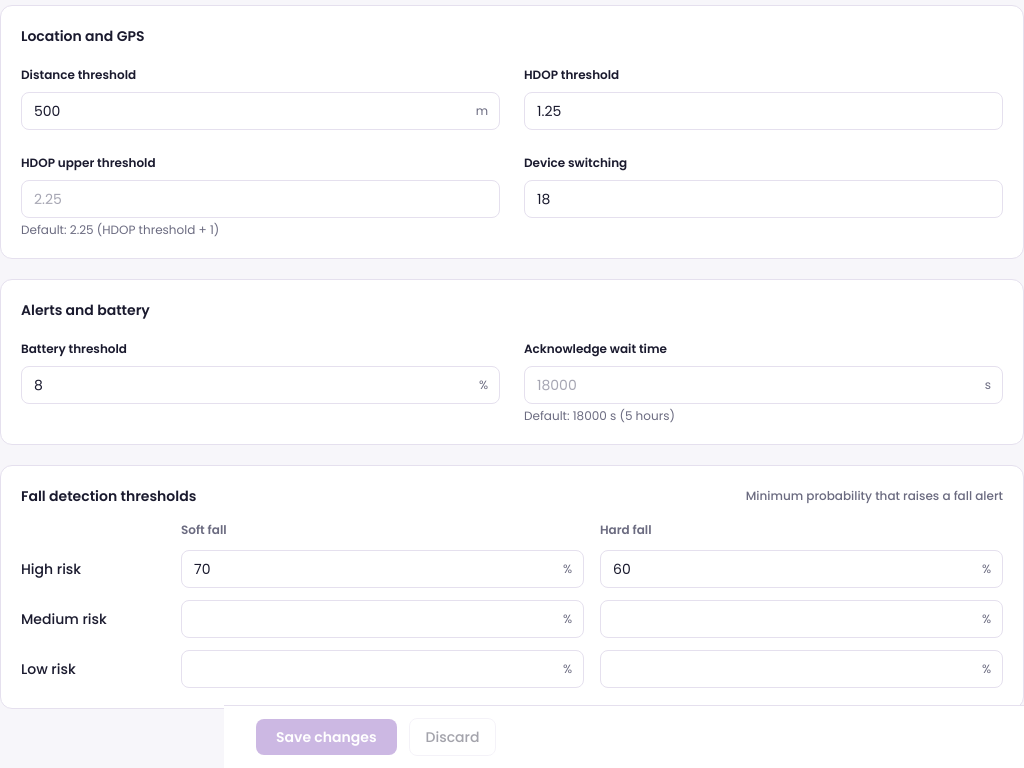
Test: SiteSettingsView › blocks saving a value that is not a number, and says why
(page scrolled)
Replace the text in the field labelled "Battery threshold" with "abc": (260, 385) [21,366,500,404]
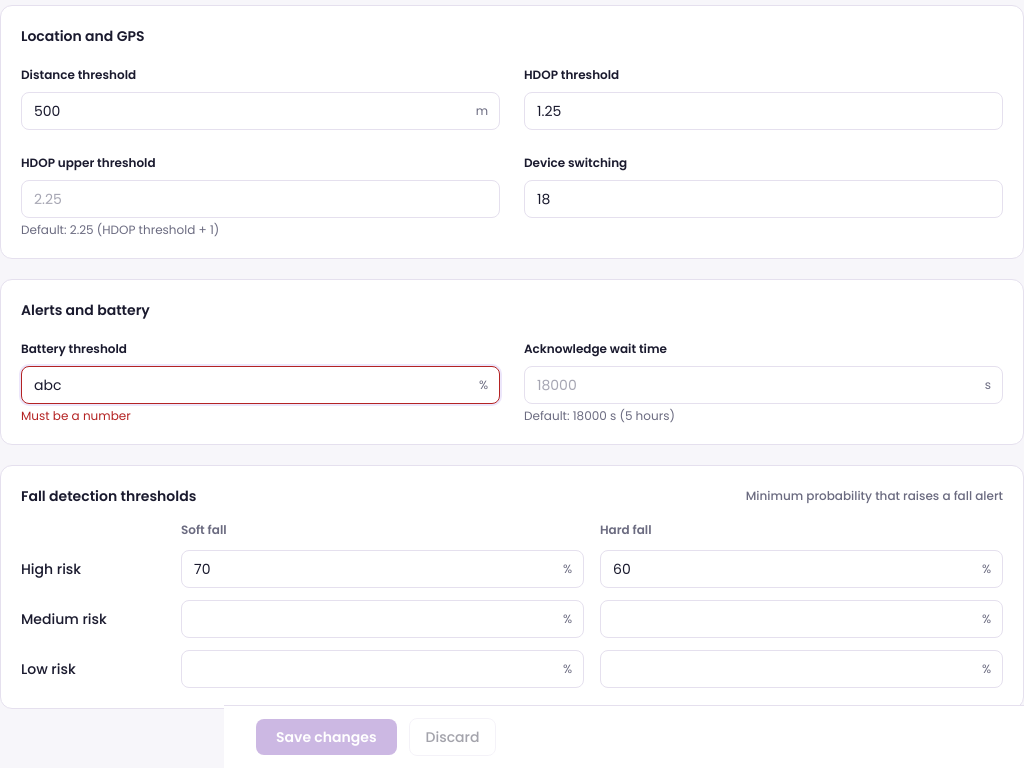
Expected: the button "Save changes" is disabled, [256,719,397,755]
Now the text "Must be a number" is shown, box [21,407,131,424]
